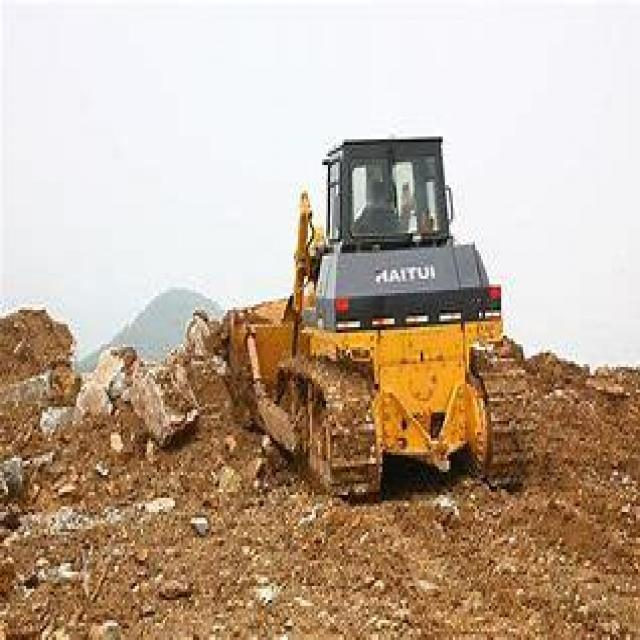Bulldozer: (210, 108, 556, 521)
